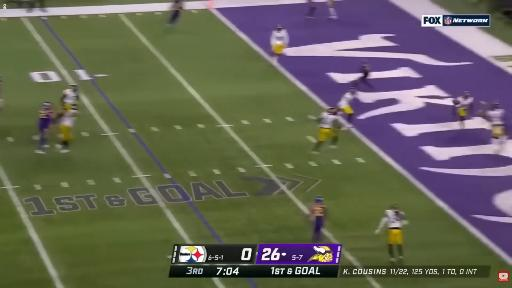Helmet: (390, 202, 403, 212), (489, 101, 500, 111), (315, 195, 325, 205), (327, 108, 339, 116), (462, 90, 472, 99), (275, 23, 283, 32), (43, 102, 51, 110), (349, 87, 357, 94)
Jersey: (487, 109, 505, 138), (311, 204, 326, 233), (455, 96, 473, 119), (385, 210, 404, 229), (319, 112, 338, 129), (39, 108, 53, 131), (60, 110, 78, 127), (271, 30, 289, 46), (487, 109, 504, 125), (339, 92, 355, 108), (63, 89, 77, 104), (456, 97, 473, 108)
Player: (375, 203, 407, 262), (312, 108, 341, 153), (482, 103, 506, 153), (56, 104, 78, 153), (35, 102, 53, 153), (338, 87, 357, 129), (454, 91, 473, 128), (311, 196, 326, 242), (271, 25, 289, 62), (358, 60, 374, 89), (61, 85, 78, 112), (167, 0, 182, 26), (327, 0, 337, 18), (307, 0, 316, 18), (0, 77, 3, 111)
